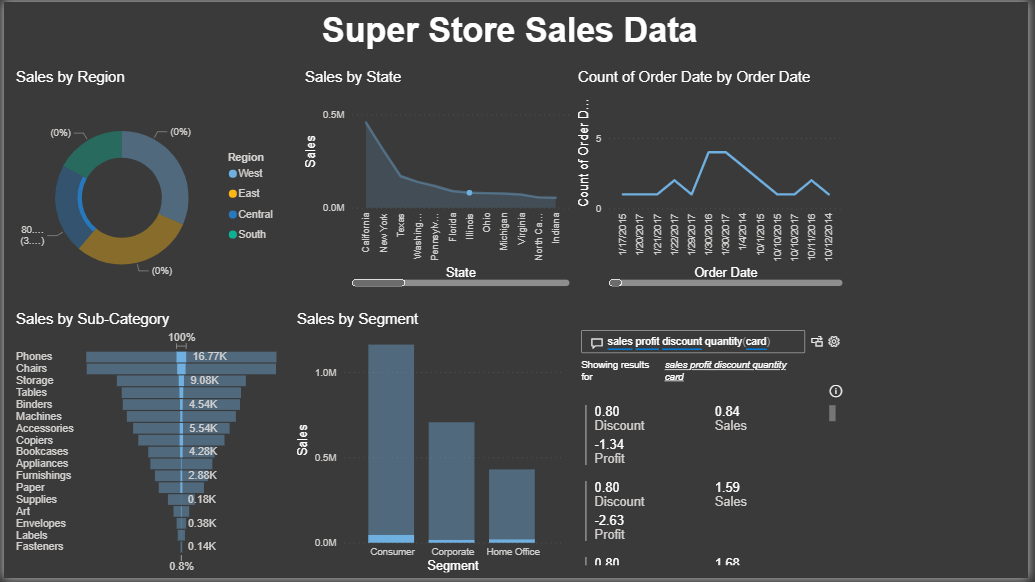

The dashboard page shown, as its layout file describes it:
{"tool":"powerbi","page":{"name":"Page 1","canvas":[1280,720],"ordinal":0},"visuals":[{"type":"donutChart","fields":{"Category":["Sample - Superstore.Region"],"Y":["Sum(Sample - Superstore.Sales)"]},"box":[10.3,82.2,340.6,303.3],"z":0},{"type":"funnel","fields":{"Category":["Sample - Superstore.Sub-Category"],"Y":["Sum(Sample - Superstore.Sales)"]},"box":[10.3,385.5,340.6,334.1],"z":1},{"type":"areaChart","fields":{"Category":["Sample - Superstore.State"],"Y":["Sum(Sample - Superstore.Sales)"]},"box":[371.4,82.2,340.6,277.6],"z":2},{"type":"columnChart","fields":{"Y":["Sum(Sample - Superstore.Sales)"],"Category":["Sample - Superstore.Segment"]},"box":[361.1,385.5,340.6,332.9],"z":3},{"type":"lineChart","fields":{"Category":["Sample - Superstore.Order Date"],"Y":["CountNonNull(Sample - Superstore.Order Date)"]},"box":[712,82.2,340.6,277.6],"z":4},{"type":"textbox","box":[1063,0,217,344],"z":6},{"type":"qnaVisual","box":[712,385.5,340.6,332.9],"z":7},{"type":"textbox","box":[392,6.4,494.8,75.8],"z":8}]}

Visuals, with their boxes in screenshot pixels (x1, y1, x2, y2), scaled from the page's 1280x720 canvas onto the 1035x582 screenshot:
donutChart - Sample - Superstore.Region x Sum(Sample - Superstore.Sales): box(8, 66, 284, 312)
funnel - Sample - Superstore.Sub-Category x Sum(Sample - Superstore.Sales): box(8, 312, 284, 581)
areaChart - Sample - Superstore.State x Sum(Sample - Superstore.Sales): box(300, 66, 576, 291)
columnChart - Sum(Sample - Superstore.Sales) x Sample - Superstore.Segment: box(292, 312, 567, 581)
lineChart - Sample - Superstore.Order Date x CountNonNull(Sample - Superstore.Order Date): box(576, 66, 851, 291)
textbox: box(860, 0, 1034, 278)
qnaVisual: box(576, 312, 851, 581)
textbox: box(317, 5, 717, 66)
